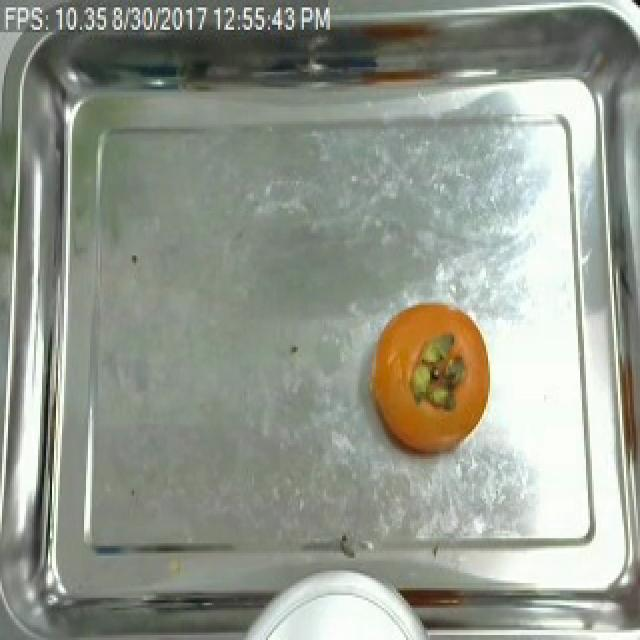Fruit: (366, 293, 496, 454)
